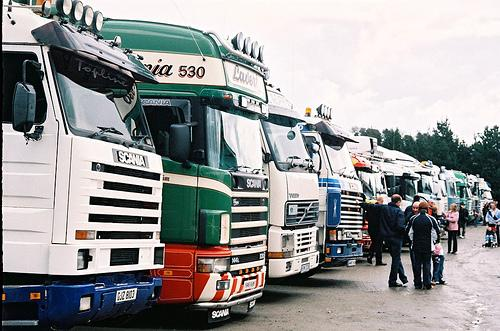truck: (82, 8, 269, 329), (0, 0, 165, 331), (242, 77, 322, 285), (287, 105, 365, 269), (340, 131, 383, 266)
